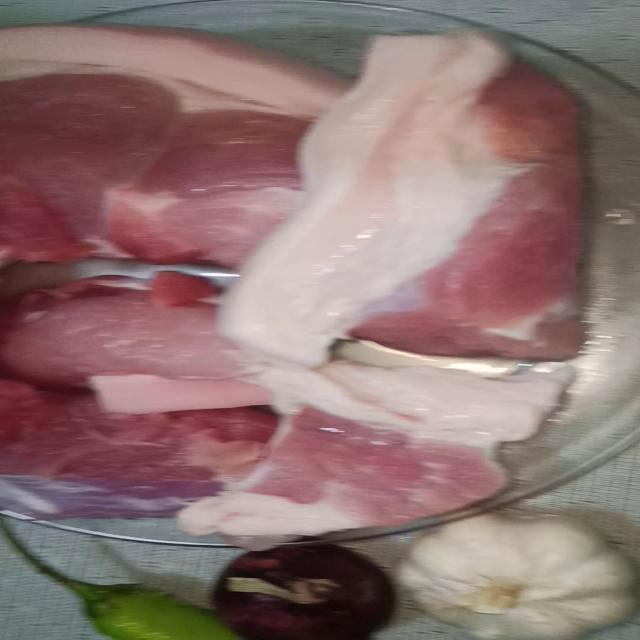chili_pepper: (0, 527, 223, 640)
garlic: (361, 516, 639, 640)
onion: (210, 530, 391, 640)
pork: (246, 22, 640, 355), (0, 0, 335, 285), (199, 362, 590, 525), (0, 265, 323, 413), (0, 381, 281, 493)
